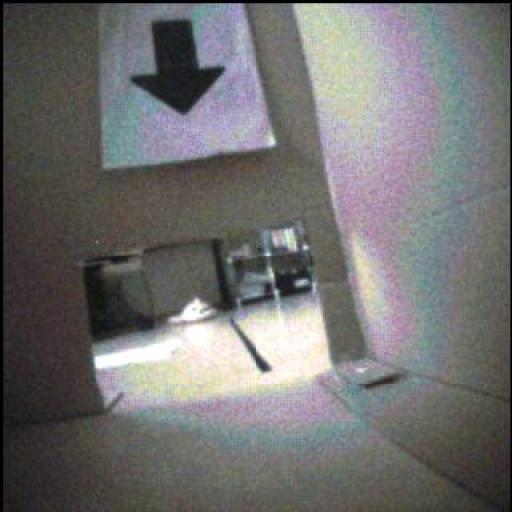arrow: (132, 22, 225, 115)
